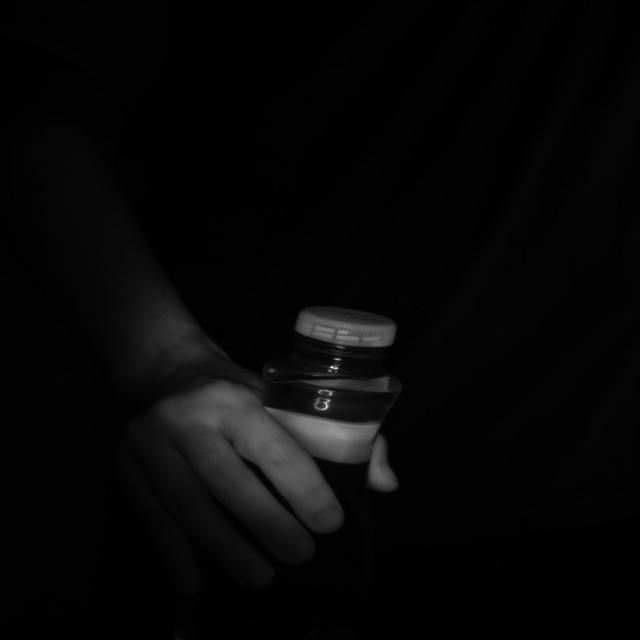Not Good: (284, 304, 398, 358)
